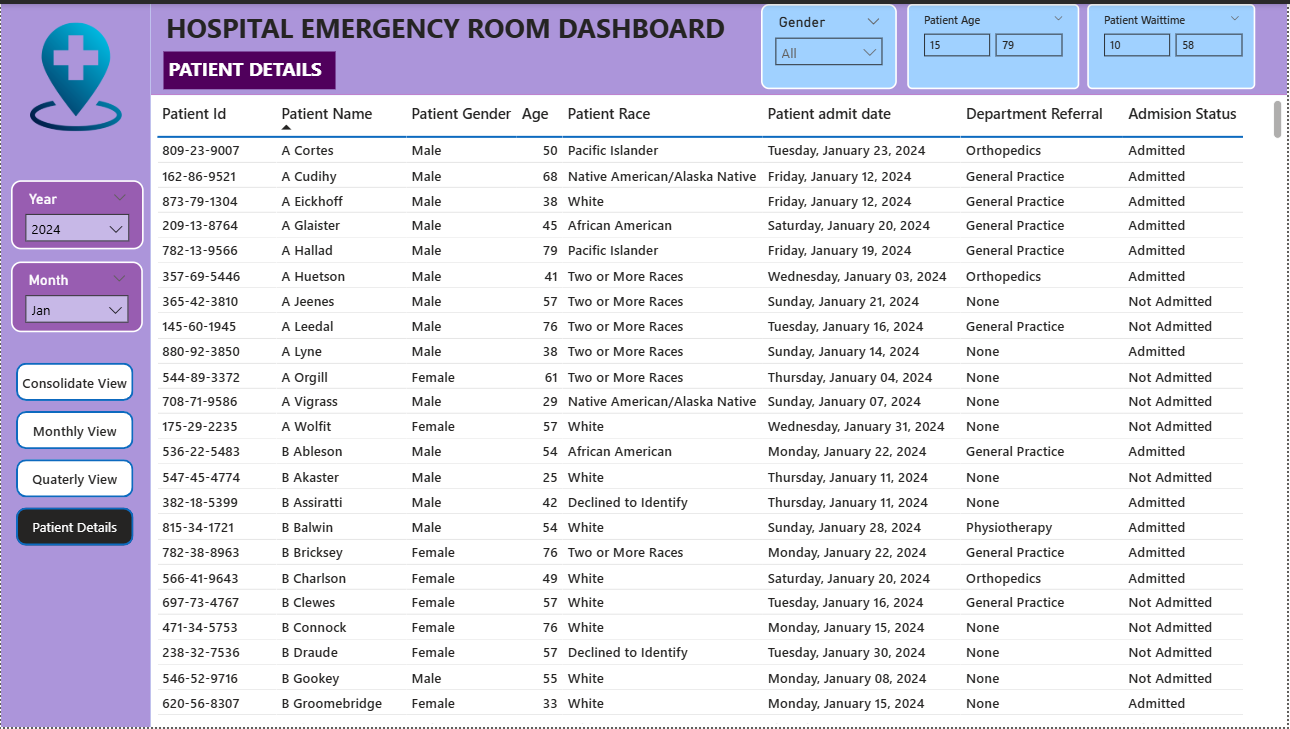

What the dashboard file says about the page in this screenshot:
{"tool":"powerbi","page":{"name":"Patient Details","canvas":[1280,720],"ordinal":2},"visuals":[{"type":"shape","box":[0,0,148.8,720],"z":0},{"type":"shape","box":[149.1,0,1130.9,90.2],"z":1000},{"type":"textbox","box":[159.1,0,588.4,46.7],"z":2000},{"type":"textbox","box":[162.1,47.1,171.3,37.9],"z":3000},{"type":"slicer","fields":{"Values":["Data Table 1.Year"]},"box":[946.9,0,138.9,68.2],"z":4000},{"type":"slicer","fields":{"Values":["Data Table 1.Month Name"]},"box":[1098.4,3.8,157.8,64.4],"z":5000},{"type":"image","box":[15.2,13.9,118.7,117.4],"z":6000},{"type":"tableEx","fields":{"Values":["Hospital ER_Data.Patient Id","Hospital ER_Data.Patient Full Name","Hospital ER_Data.Patient Gender","Hospital ER_Data.Patient Age","Hospital ER_Data.Patient Race","Hospital ER_Data.Patient admit date","Hospital ER_Data.Department Referral","Hospital ER_Data.Admision Status"]},"box":[149.1,90.2,1130.9,630.2],"z":7000},{"type":"pageNavigator","box":[14.9,256.3,118.2,184.1],"z":8000}]}

Visuals, with their boxes in screenshot pixels (x1, y1, x2, y2), scaled from the page's 1280x720 canvas onto the 1290x729 screenshot:
shape: [0, 0, 150, 728]
shape: [150, 0, 1289, 91]
textbox: [160, 0, 753, 47]
textbox: [163, 48, 336, 86]
slicer - Data Table 1.Year: [954, 0, 1094, 69]
slicer - Data Table 1.Month Name: [1107, 4, 1266, 69]
image: [15, 14, 135, 133]
tableEx - Hospital ER_Data.Patient Id x Hospital ER_Data.Patient Full Name: [150, 91, 1289, 728]
pageNavigator: [15, 260, 134, 446]
